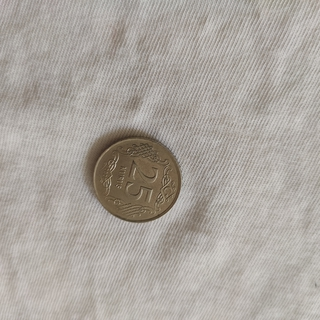25KURUS: (90, 135, 182, 223)
